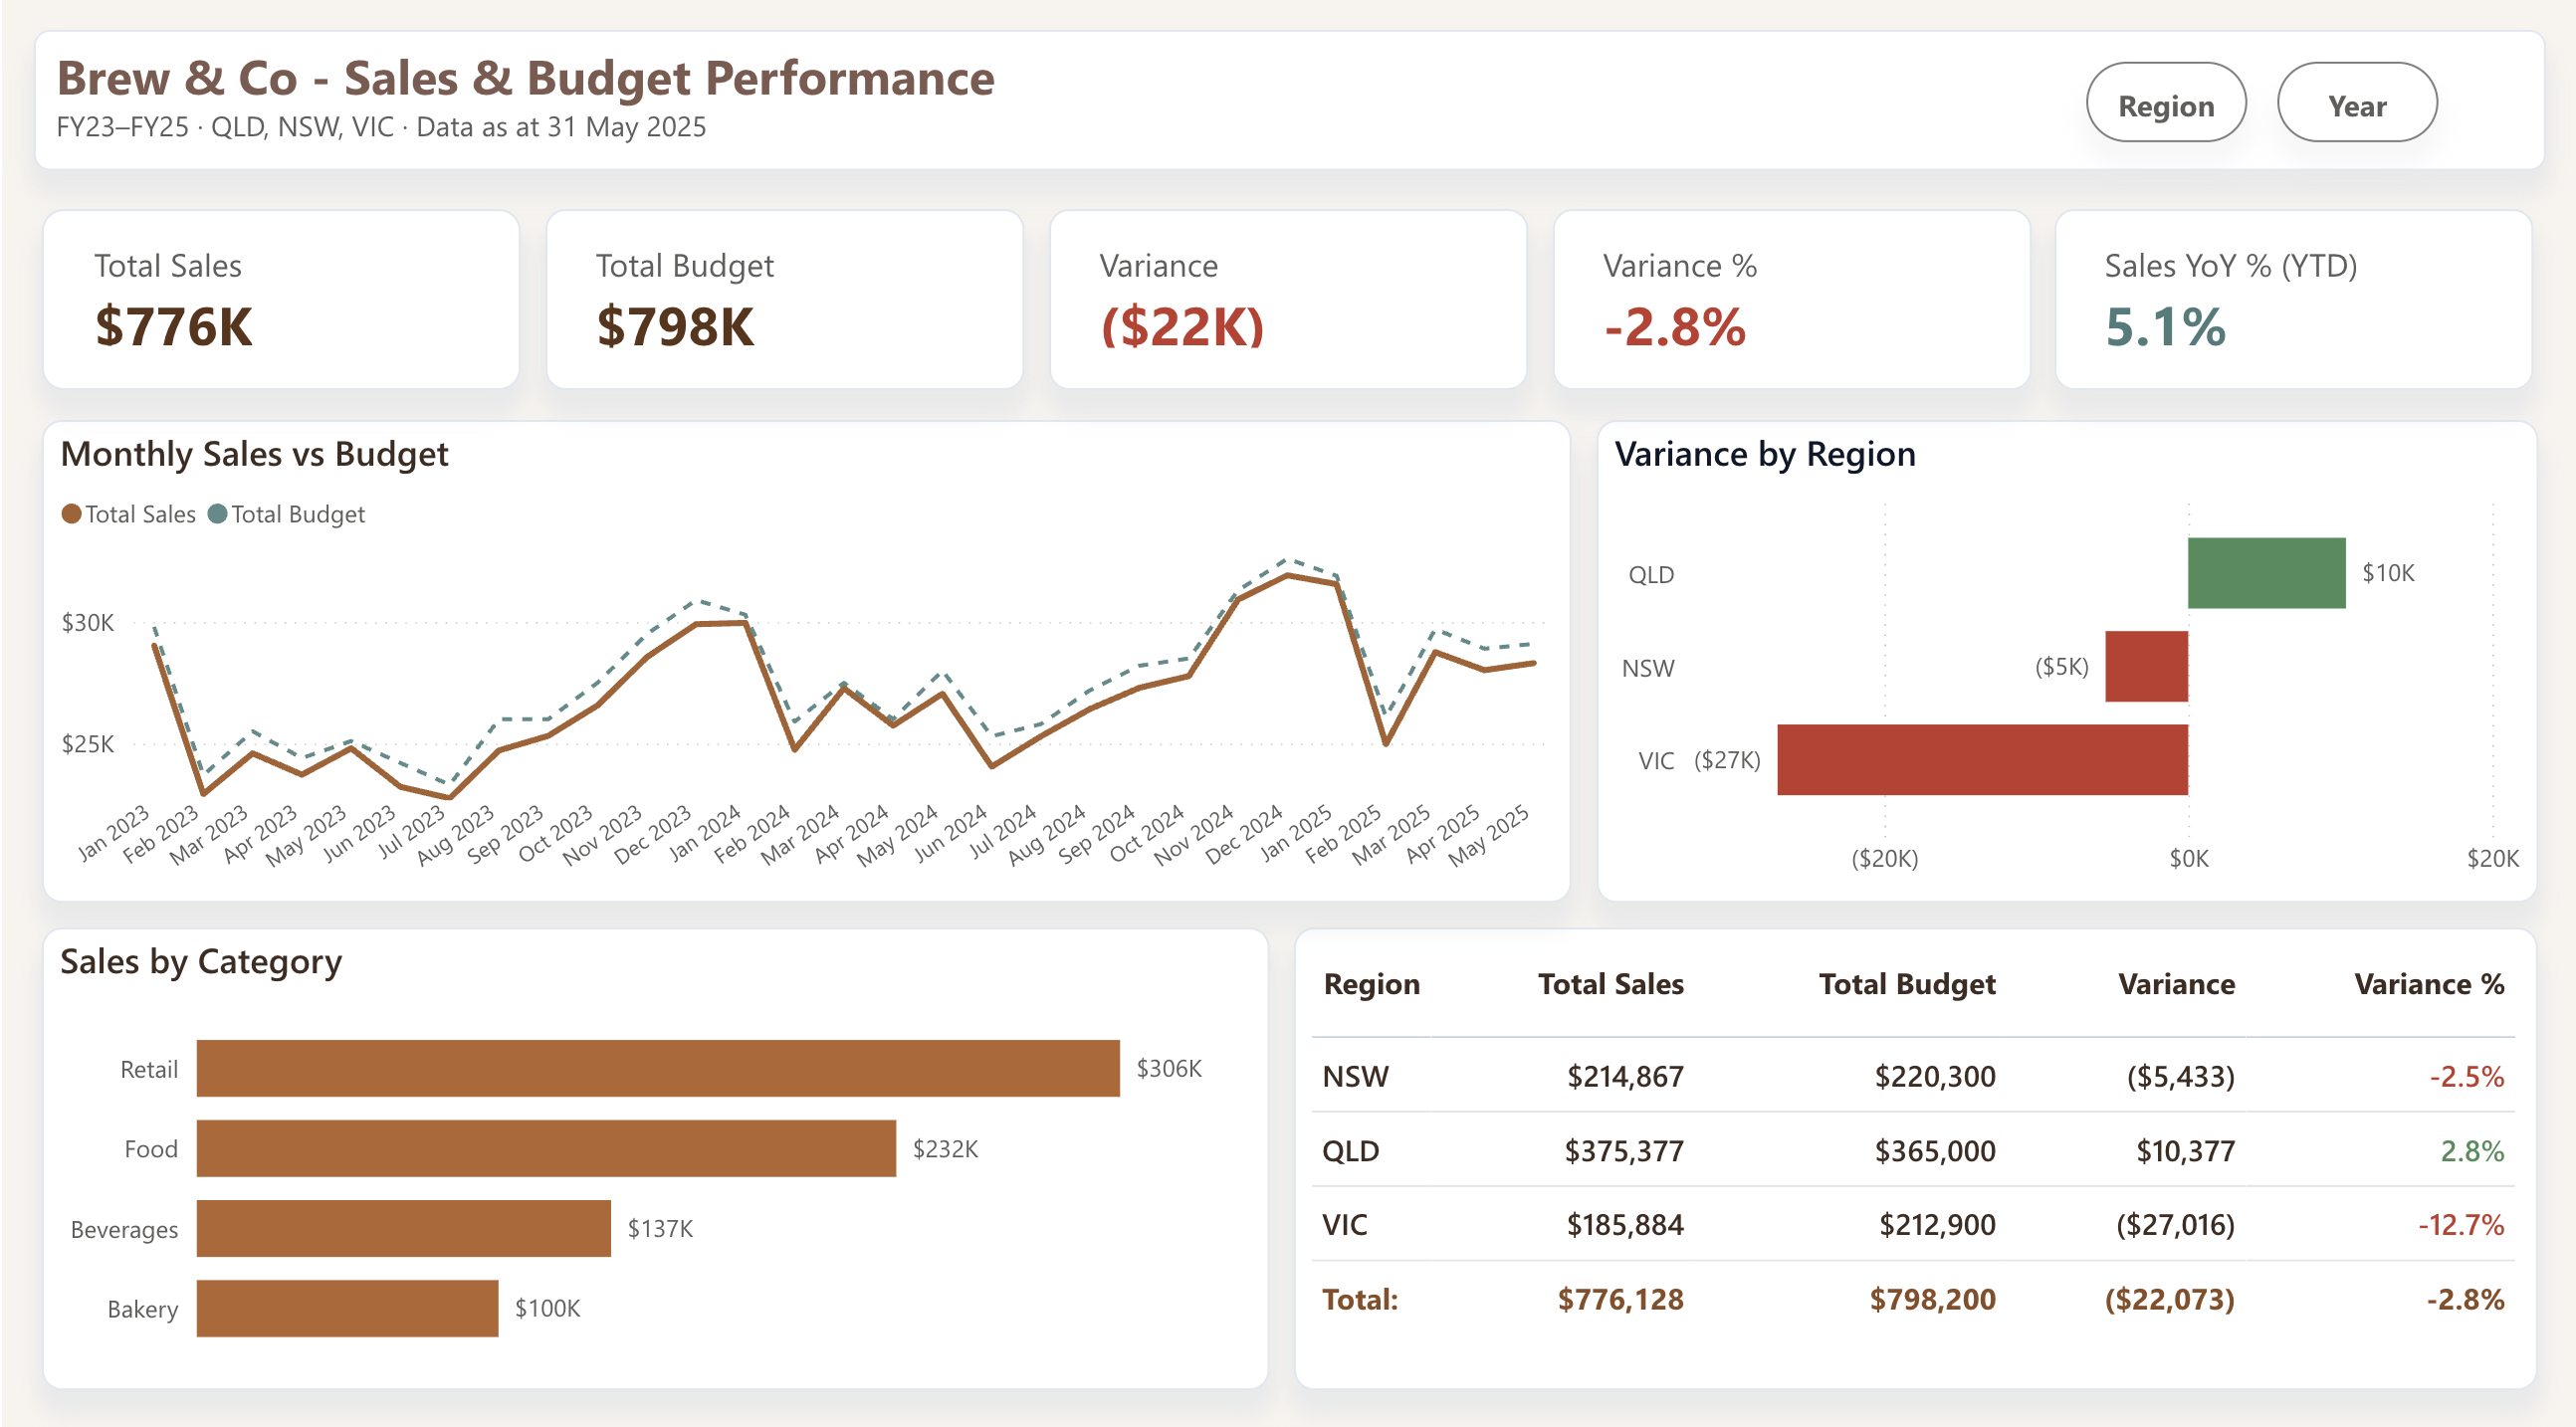

The dashboard page shown, as its layout file describes it:
{"tool":"powerbi","page":{"name":"Executive Summary","canvas":[1280,720],"ordinal":0},"visuals":[{"type":"clusteredBarChart","title":"Variance by Region","fields":{"Y":["fact_budget.Variance"],"Category":["Dim_Region.Region"]},"box":[792,210,468,240],"z":0},{"type":"pivotTable","title":"Regional Performance Detail","fields":{"Rows":["Dim_Region.Region"],"Values":["fact_sales.Total Sales","fact_budget.Total Budget","fact_budget.Variance","fact_budget.Variance %"]},"box":[642,462,618,230],"z":1000},{"type":"lineChart","title":"Monthly Sales vs Budget","fields":{"Category":["Dim_Date.Month Year"],"Y":["fact_sales.Total Sales","fact_budget.Total Budget"]},"box":[20,210,760,240],"z":2000},{"type":"cardVisual","title":"Budget Card","fields":{"Data":["fact_budget.Total Budget"]},"box":[270,105,238,90],"z":3000},{"type":"cardVisual","title":"Variance Card","fields":{"Data":["fact_budget.Variance"]},"box":[520,105,238,90],"z":4000},{"type":"cardVisual","title":"Variance% Card","fields":{"Data":["fact_budget.Variance %"]},"box":[770,105,238,90],"z":5000},{"type":"cardVisual","title":"YoY% Card","fields":{"Data":["_Measures.Sales YoY % (YTD)"]},"box":[1020,105,238,90],"z":6000},{"type":"cardVisual","title":"Sales Card","fields":{"Data":["fact_sales.Total Sales"]},"box":[20,105,238,90],"z":7000},{"type":"textbox","title":"Title band","box":[16,16,1248,70],"z":8000},{"type":"clusteredBarChart","title":"Sales by Category","fields":{"Category":["Dim_Category.category"],"Y":["fact_sales.Total Sales"]},"box":[20,462,610,230],"z":9000},{"type":"actionButton","title":"Year","box":[1130,32,80,40],"z":13500},{"type":"actionButton","title":"Region","box":[1035,32,80,40],"z":14000}]}

Visuals, with their boxes in screenshot pixels (x1, y1, x2, y2), scaled from the page's 1280x720 canvas onto the 2576x1427 screenshot:
"Variance by Region" clusteredBarChart: {"left": 1594, "top": 416, "right": 2536, "bottom": 892}
"Regional Performance Detail" pivotTable: {"left": 1292, "top": 916, "right": 2536, "bottom": 1371}
"Monthly Sales vs Budget" lineChart: {"left": 40, "top": 416, "right": 1570, "bottom": 892}
"Budget Card" cardVisual: {"left": 543, "top": 208, "right": 1022, "bottom": 386}
"Variance Card" cardVisual: {"left": 1046, "top": 208, "right": 1526, "bottom": 386}
"Variance% Card" cardVisual: {"left": 1550, "top": 208, "right": 2029, "bottom": 386}
"YoY% Card" cardVisual: {"left": 2052, "top": 208, "right": 2532, "bottom": 386}
"Sales Card" cardVisual: {"left": 40, "top": 208, "right": 520, "bottom": 386}
"Title band" textbox: {"left": 32, "top": 32, "right": 2544, "bottom": 170}
"Sales by Category" clusteredBarChart: {"left": 40, "top": 916, "right": 1268, "bottom": 1371}
"Year" actionButton: {"left": 2274, "top": 64, "right": 2435, "bottom": 142}
"Region" actionButton: {"left": 2083, "top": 64, "right": 2244, "bottom": 142}
